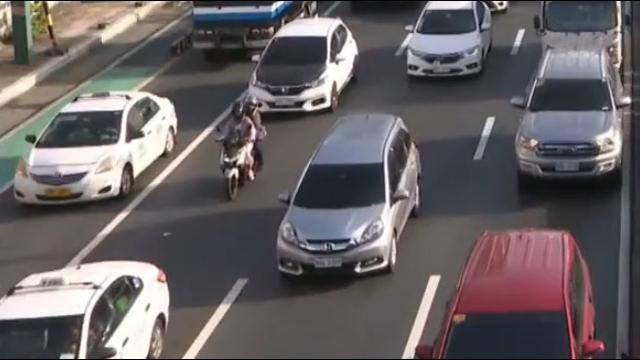car: (415, 228, 604, 360), (276, 112, 421, 283), (11, 90, 178, 204), (508, 47, 632, 193), (0, 257, 170, 360), (244, 15, 359, 116), (403, 0, 494, 81)
motorcycle: (218, 97, 269, 202)
truck: (191, 0, 317, 64), (531, 0, 633, 66)
